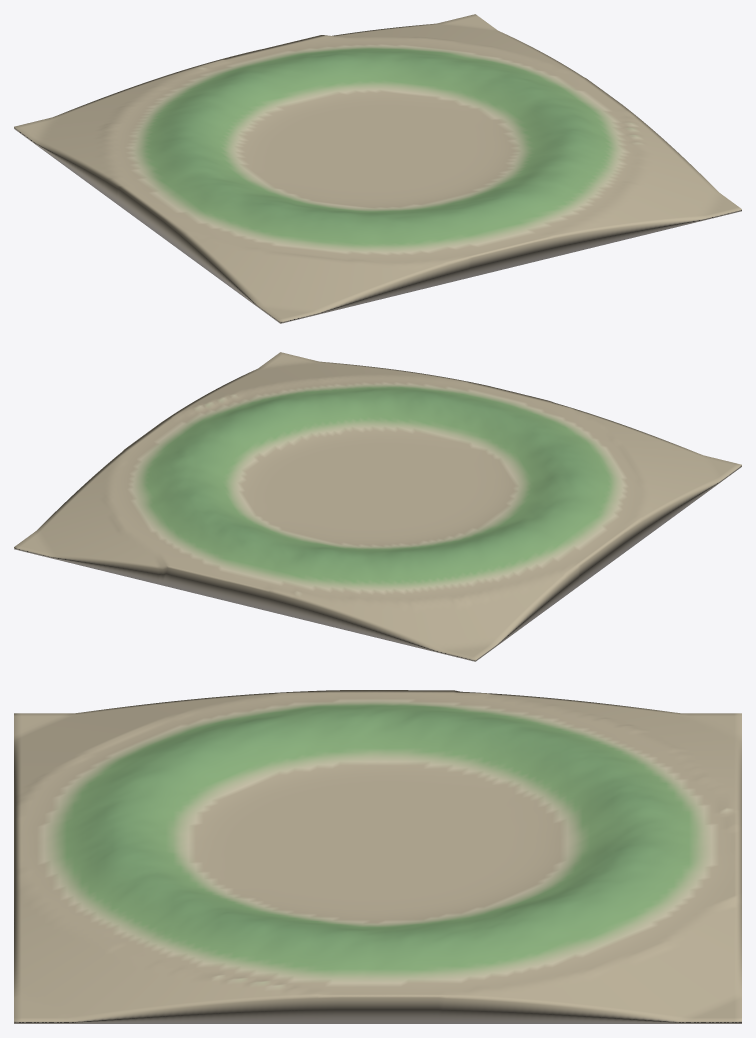
File: gen_atoll.glb
The picture shows the model from 3 angles, top to bottom: view 1: azimuth 30°, elevation 25°; view 2: azimuth 150°, elevation 25°; view 3: azimuth 270°, elevation 25°; orthographic projection. The views are drawn at different scales.
Parts seen in each view (by area): view 1: gen_atoll; view 2: gen_atoll; view 3: gen_atoll.
Boxes of the visible parts, <box> form: gen_atoll: <box>14,14,741,323</box>; gen_atoll: <box>14,352,741,661</box>; gen_atoll: <box>14,690,741,1023</box>.
Size of the model in its own units: 56 by 3.9 by 56.
